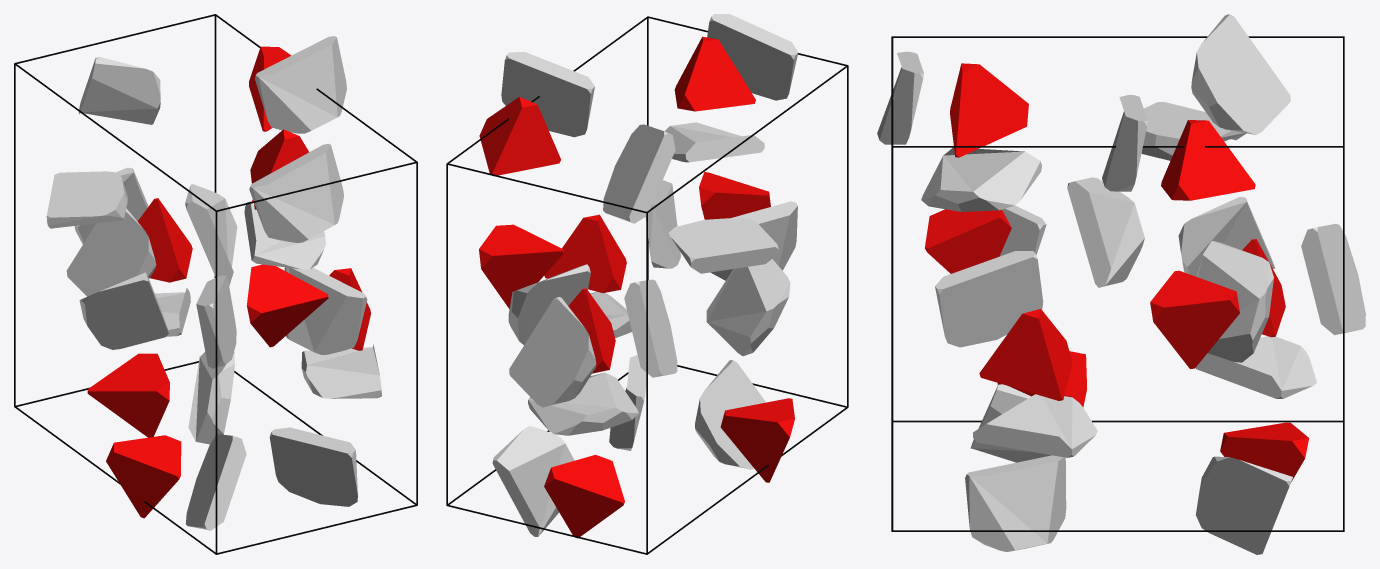
Rendered from 3Duc_pf0p6.glb.
3 views of the same model, side by side, from view 1: azimuth 30°, elevation 25°; view 2: azimuth 150°, elevation 25°; view 3: azimuth 270°, elevation 25° (orthographic). The views are drawn at different scales.
Bounding box in the file's own units: 5.98 × 8.42 × 7.81.
